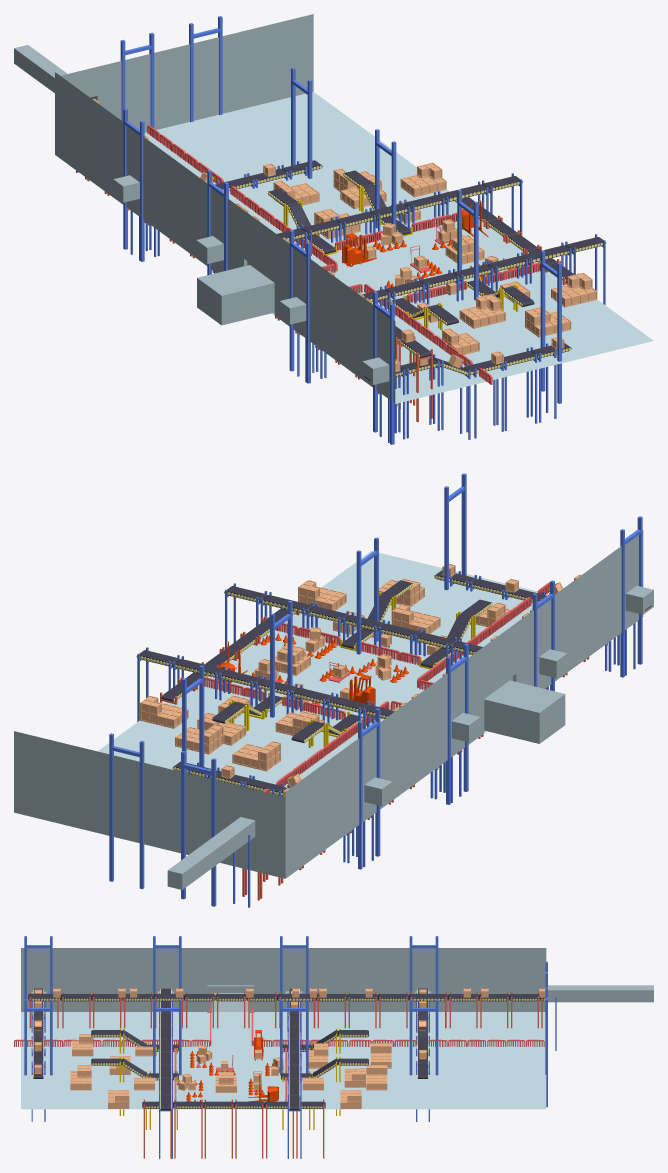
Rendered from Environment4FirstPlaytest.fbx.
3 renders of one model, top to bottom at view 1: azimuth 30°, elevation 25°; view 2: azimuth 150°, elevation 25°; view 3: azimuth 270°, elevation 25°, orthographic. The views are drawn at different scales.
Parts seen in each view (by area): view 1: Walls_Floors, MetalBar_62, MetalBar_64, MetalBar_66, MetalBar_63, MetalBar_59, MetalBar_57, MetalBar_60, MetalBar_61, MetalBar_58, MetalBar_65, forklift:Forklift_01; view 2: Walls_Floors, MetalBar_58, MetalBar_66, MetalBar_57, MetalBar_63, MetalBar_65, MetalBar_62, MetalBar_61, MetalBar_60, MetalBar_59, MetalBar_64; view 3: Walls_Floors, MetalBar_59, MetalBar_62, MetalBar_61, MetalBar_66, MetalBar_60, MetalBar_63, MetalBar_65, MetalBar_64.
Part boxes in pixels (x1,y1,x2,y2): Walls_Floors: (14, 14, 653, 403); MetalBar_62: (540, 250, 561, 403); MetalBar_64: (289, 230, 310, 383); MetalBar_66: (123, 108, 144, 261); MetalBar_63: (373, 291, 394, 444); MetalBar_59: (291, 67, 312, 178); MetalBar_57: (120, 32, 154, 128); MetalBar_60: (375, 129, 396, 231); MetalBar_61: (457, 189, 478, 300); MetalBar_58: (189, 16, 222, 122); MetalBar_65: (207, 170, 228, 275); forklift:Forklift_01: (342, 233, 376, 266); Walls_Floors: (14, 530, 653, 889); MetalBar_58: (109, 733, 144, 889); MetalBar_66: (358, 708, 380, 869); MetalBar_57: (181, 751, 216, 906); MetalBar_63: (620, 516, 642, 677); MetalBar_65: (446, 643, 468, 804); MetalBar_62: (444, 473, 466, 590); MetalBar_61: (356, 537, 378, 654); MetalBar_60: (270, 600, 292, 717); MetalBar_59: (182, 665, 204, 772); MetalBar_64: (532, 580, 554, 691); Walls_Floors: (21, 948, 653, 1109); MetalBar_59: (409, 999, 438, 1075); MetalBar_62: (24, 999, 52, 1075); MetalBar_61: (153, 999, 181, 1075); MetalBar_66: (409, 936, 438, 993); MetalBar_60: (280, 999, 308, 1075); MetalBar_63: (24, 936, 52, 999); MetalBar_65: (280, 936, 308, 993); MetalBar_64: (153, 936, 181, 998).
Size of the model in its own units: 416 by 180 by 849.
